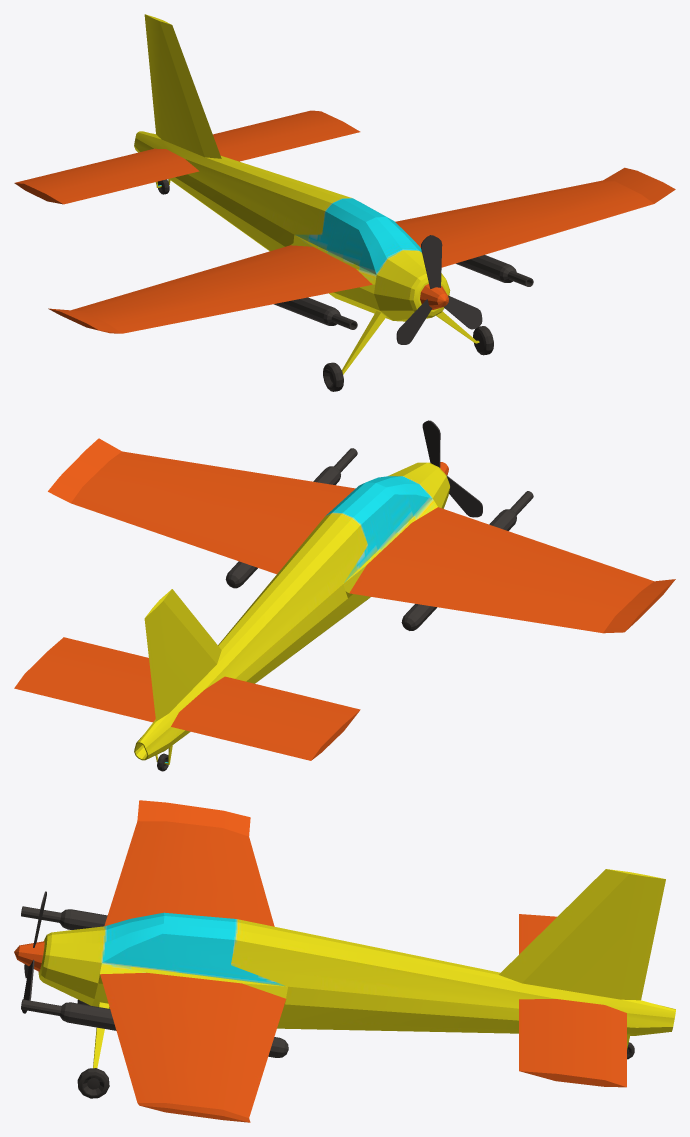
3 views of the same model, one above another, from view 1: azimuth 30°, elevation 25°; view 2: azimuth 150°, elevation 25°; view 3: azimuth 270°, elevation 25° (orthographic). The views are drawn at different scales.
Parts seen in each view (by area): view 1: Plane1, Motor; view 2: Plane1, Motor; view 3: Plane1, Motor.
Boxes of the visible parts, bbox=[...] form: Plane1: bbox=[14, 14, 675, 391]; Motor: bbox=[396, 235, 482, 344]; Plane1: bbox=[14, 438, 675, 771]; Motor: bbox=[422, 420, 482, 517]; Plane1: bbox=[21, 800, 675, 1122]; Motor: bbox=[14, 891, 46, 1013].
Bounding box in the file's own units: 708 × 205 × 648.
Materials: 1 (1 with a texture image).
